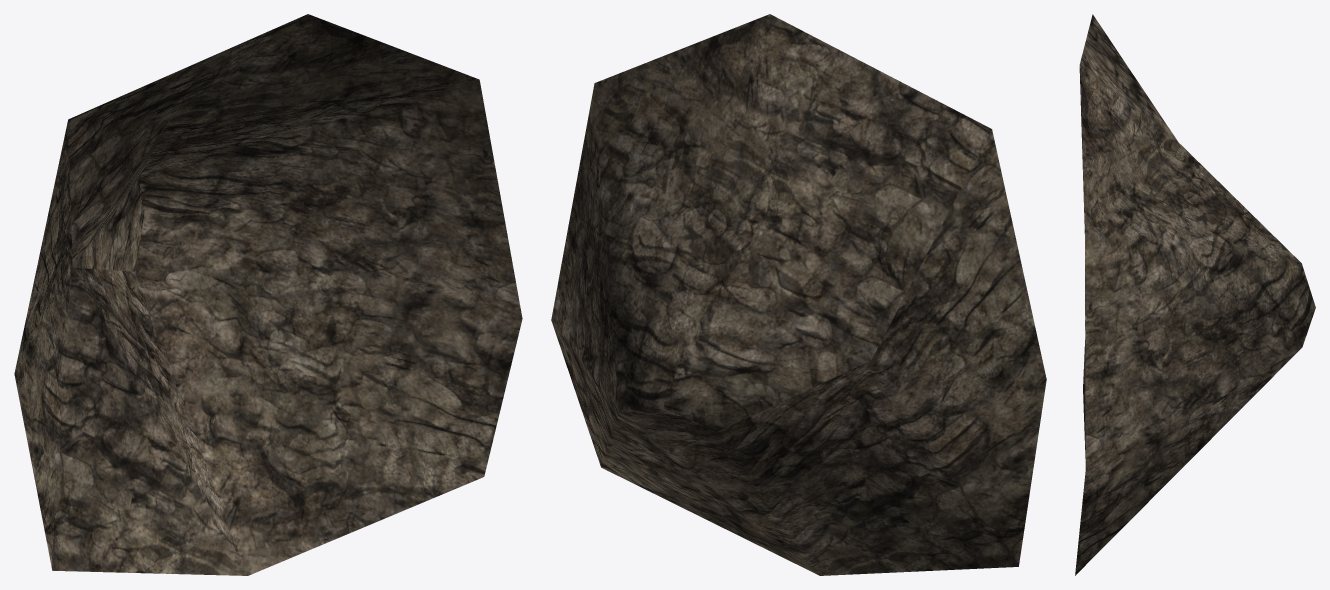
The model's file is MEP_C_Stalagmite_06.fbx.
3 views of the same model, side by side, from view 1: azimuth 30°, elevation 25°; view 2: azimuth 150°, elevation 25°; view 3: azimuth 270°, elevation 25° (orthographic). The views are drawn at different scales.
Visible parts, largest first — view 1: MEP_C_Stalagmite_06; view 2: MEP_C_Stalagmite_06; view 3: MEP_C_Stalagmite_06.
Boxes of the visible parts, left/top/right/bottom form: MEP_C_Stalagmite_06: left=14, top=14, right=522, bottom=575; MEP_C_Stalagmite_06: left=551, top=14, right=1046, bottom=575; MEP_C_Stalagmite_06: left=1075, top=14, right=1315, bottom=575.
Size of the model in its own units: 2.96 by 3.1 by 1.41.
